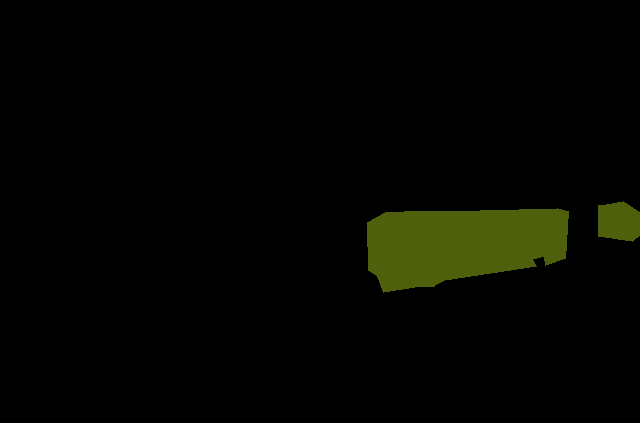Train: (367, 201, 639, 293)
